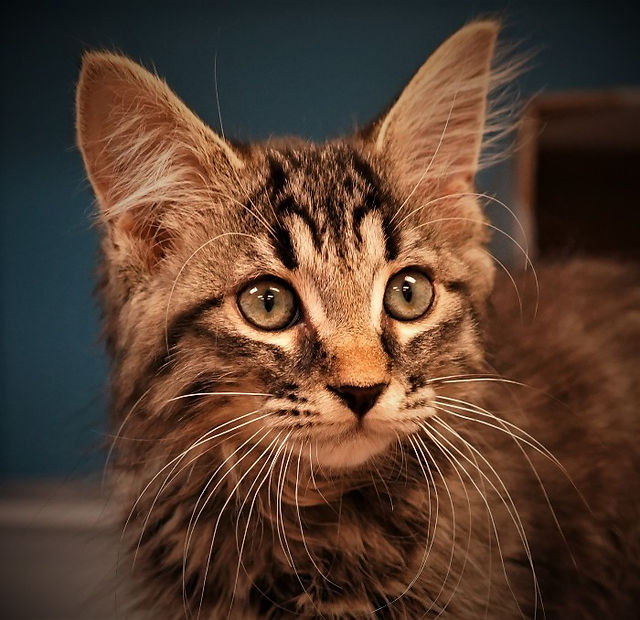Cat: (59, 15, 633, 613)
